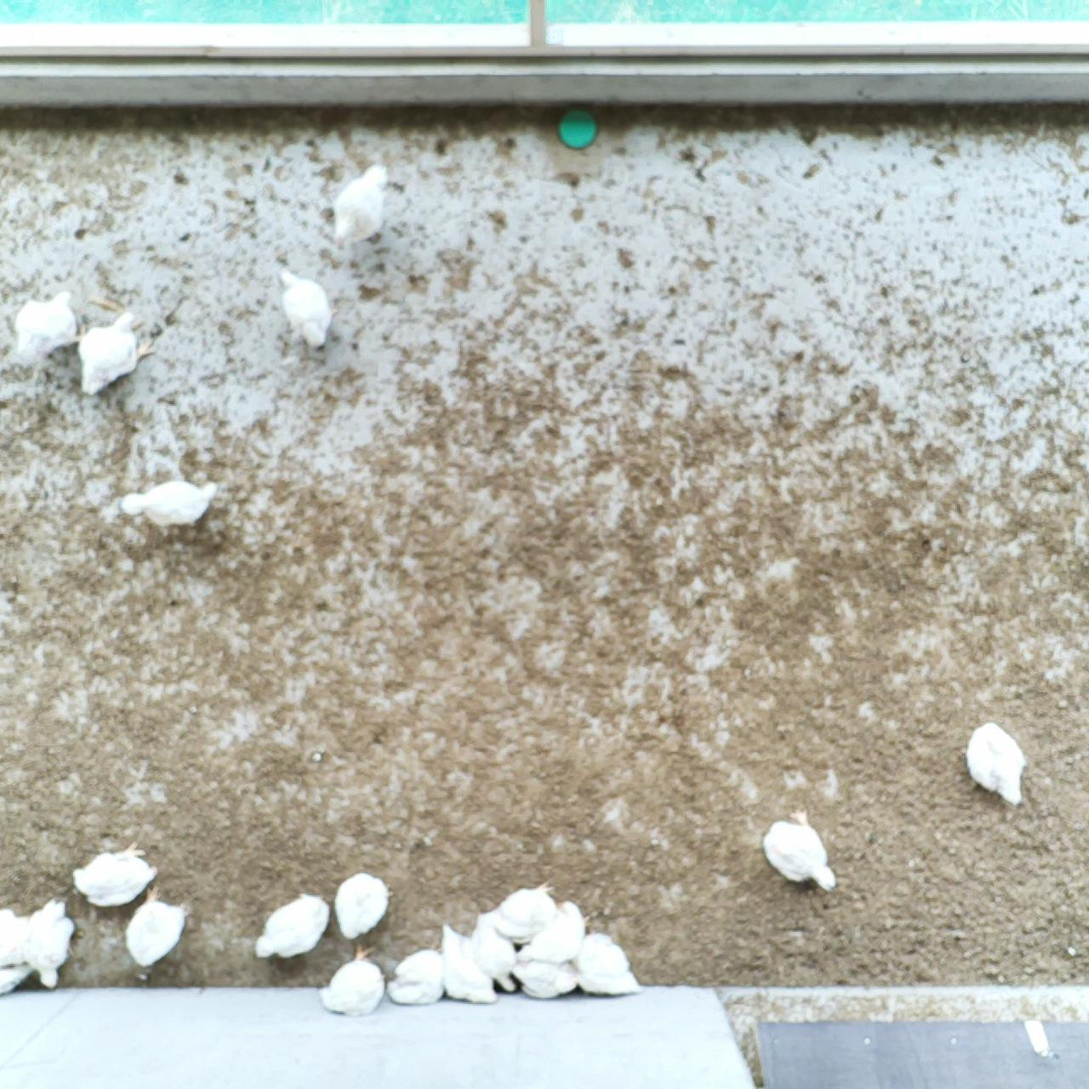chicken: (76, 306, 157, 399), (759, 804, 841, 894), (117, 884, 198, 972), (9, 285, 88, 373), (67, 839, 161, 911), (326, 159, 392, 258), (962, 718, 1030, 812), (271, 263, 339, 356), (250, 890, 334, 964), (19, 897, 82, 995), (313, 940, 388, 1022), (514, 896, 596, 968), (437, 918, 502, 1008), (476, 877, 559, 947), (118, 476, 219, 533), (572, 925, 645, 999), (332, 870, 396, 944), (385, 946, 448, 1011), (505, 956, 581, 1005), (0, 906, 37, 971)
